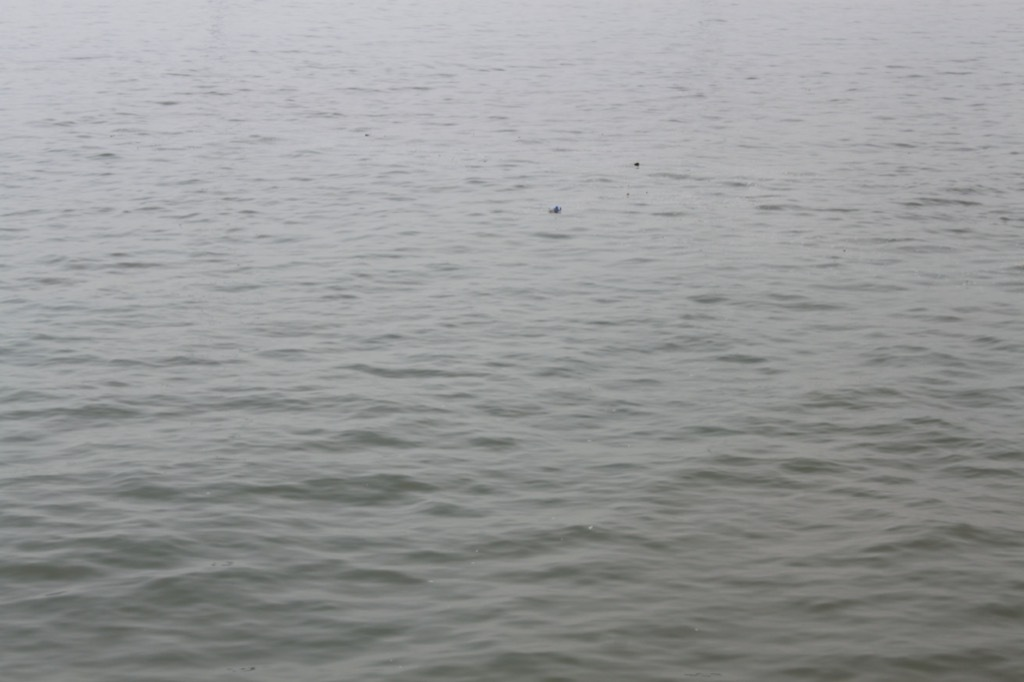plastic: (542, 202, 569, 220), (632, 157, 642, 172), (623, 188, 632, 197), (362, 130, 371, 139), (645, 189, 651, 197), (842, 247, 848, 254)
